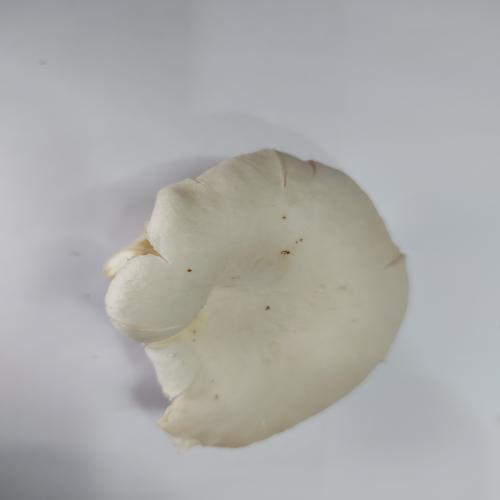Oyster Mushroom: (103, 147, 411, 451)
